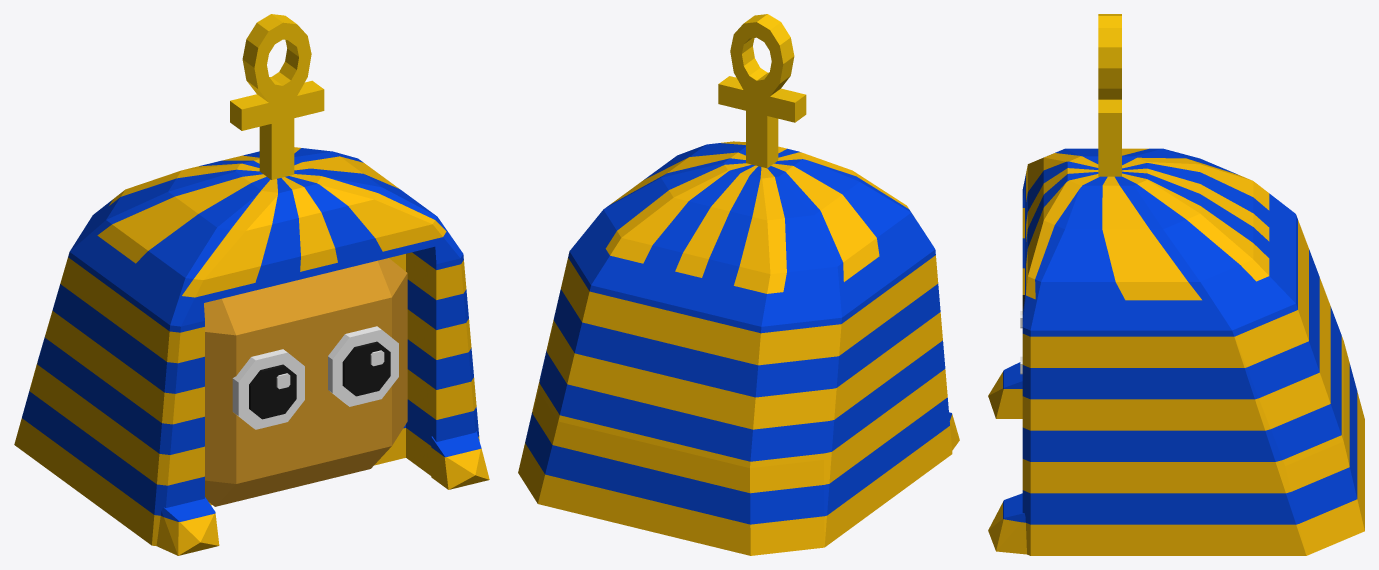
Rendered from Ankhy.fbx.
The picture shows the model from 3 angles, left to right: view 1: azimuth 30°, elevation 25°; view 2: azimuth 150°, elevation 25°; view 3: azimuth 270°, elevation 25°; orthographic projection. The views are drawn at different scales.
Visible parts, largest first — view 1: Ankhy_Gold, Ankhy_Blue, Ankhy, Ankhy_Ankh, Ankhy_Eyes, Ankhy_Pupils; view 2: Ankhy_Blue, Ankhy_Gold, Ankhy_Ankh; view 3: Ankhy_Blue, Ankhy_Gold, Ankhy_Ankh.
Boxes of the visible parts, x1,y1,x2,y2 form: Ankhy_Gold: (14,147,489,555); Ankhy_Blue: (22,148,481,521); Ankhy: (204,258,407,506); Ankhy_Ankh: (230,14,324,179); Ankhy_Eyes: (232,326,398,429); Ankhy_Pupils: (249,341,390,419); Ankhy_Blue: (525,143,951,524); Ankhy_Gold: (518,141,959,555); Ankhy_Ankh: (718,14,806,168); Ankhy_Blue: (1003,148,1357,524); Ankhy_Gold: (988,148,1364,555); Ankhy_Ankh: (1098,14,1121,176).
Bounding box in the file's own units: 2.88 × 3.82 × 2.84.
